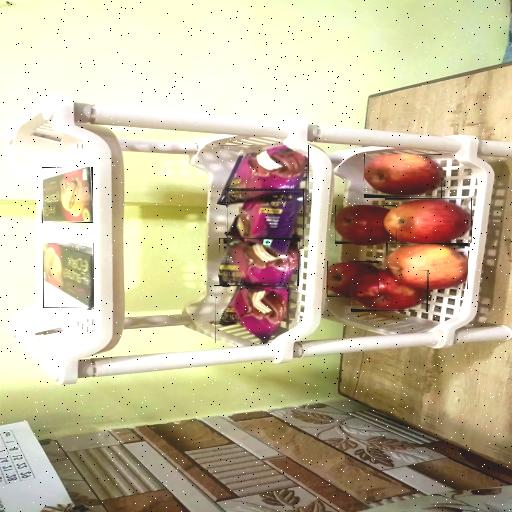Apple: (385, 199, 471, 242), (387, 243, 467, 289), (364, 154, 442, 197), (351, 270, 428, 311), (335, 205, 396, 243), (327, 263, 379, 297)
Choco Fills: (43, 243, 94, 308), (42, 167, 93, 222)
Choco Pie: (219, 146, 308, 203), (227, 190, 303, 249), (215, 285, 288, 343), (219, 238, 299, 286)
